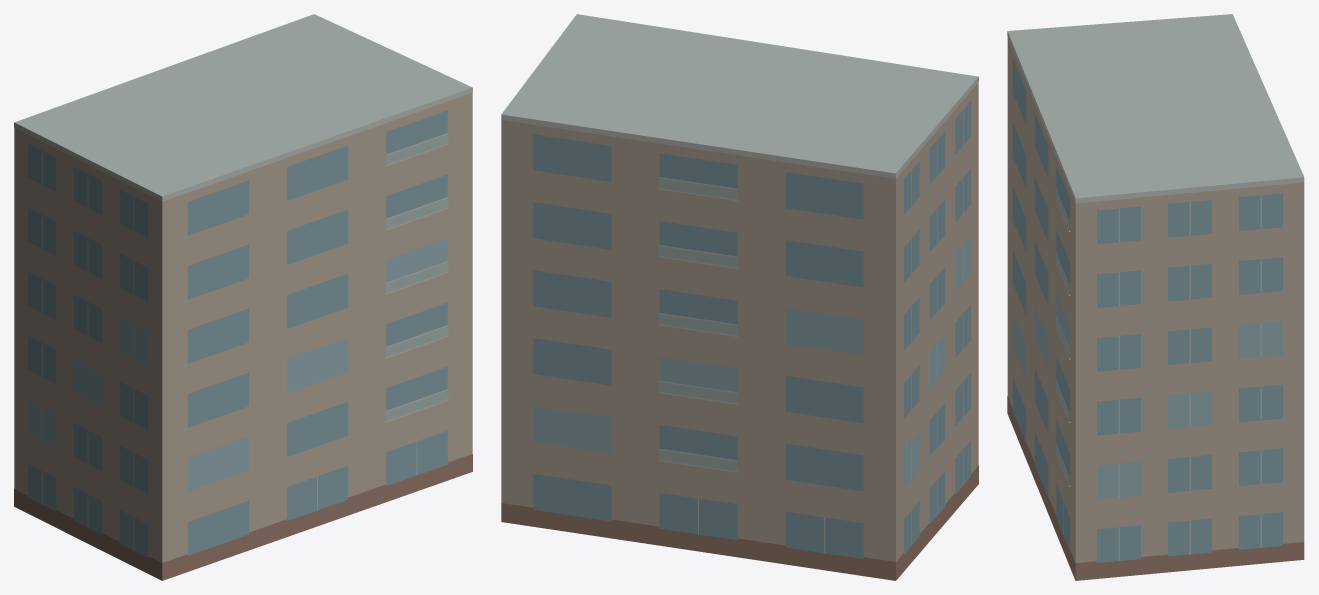
File: survey-upis-32873745.glb
3 views of the same model, side by side, from view 1: azimuth 30°, elevation 25°; view 2: azimuth 150°, elevation 25°; view 3: azimuth 270°, elevation 25° (orthographic). The views are drawn at different scales.
Parts seen in each view (by area): view 1: survey-upis-32873745.tmp; view 2: survey-upis-32873745.tmp; view 3: survey-upis-32873745.tmp.
Boxes of the visible parts, x1,y1,x2,y2 form: survey-upis-32873745.tmp: [14, 14, 472, 580]; survey-upis-32873745.tmp: [501, 14, 978, 580]; survey-upis-32873745.tmp: [1007, 14, 1304, 580].
Size of the model in its own units: 18.94 by 18.3 by 12.89.
